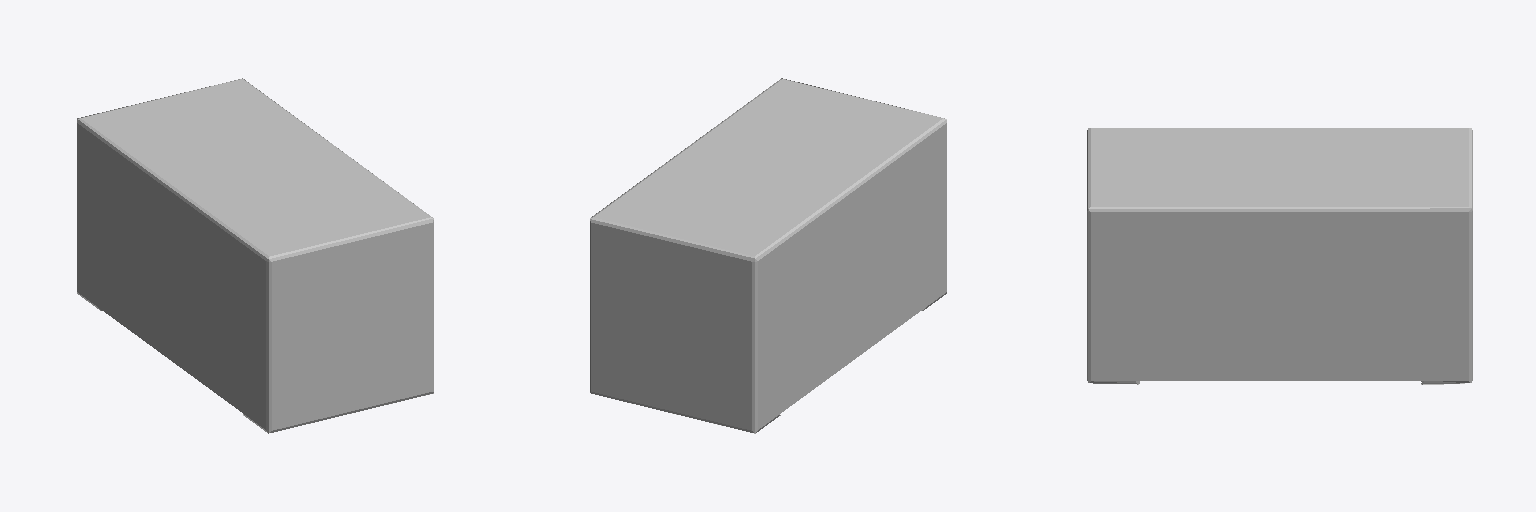
File: Small Arch UVed OBJ.obj
3 renders of one model, left to right at view 1: azimuth 30°, elevation 25°; view 2: azimuth 150°, elevation 25°; view 3: azimuth 270°, elevation 25°, orthographic.
Visible parts, largest first — view 1: pCube11; view 2: pCube11; view 3: pCube11.
Part boxes in pixels (left/top/right/bottom): pCube11: left=77, top=78, right=433, bottom=433; pCube11: left=590, top=78, right=946, bottom=433; pCube11: left=1087, top=128, right=1472, bottom=384.
Size of the model in its own units: 94.87 by 94.76 by 188.